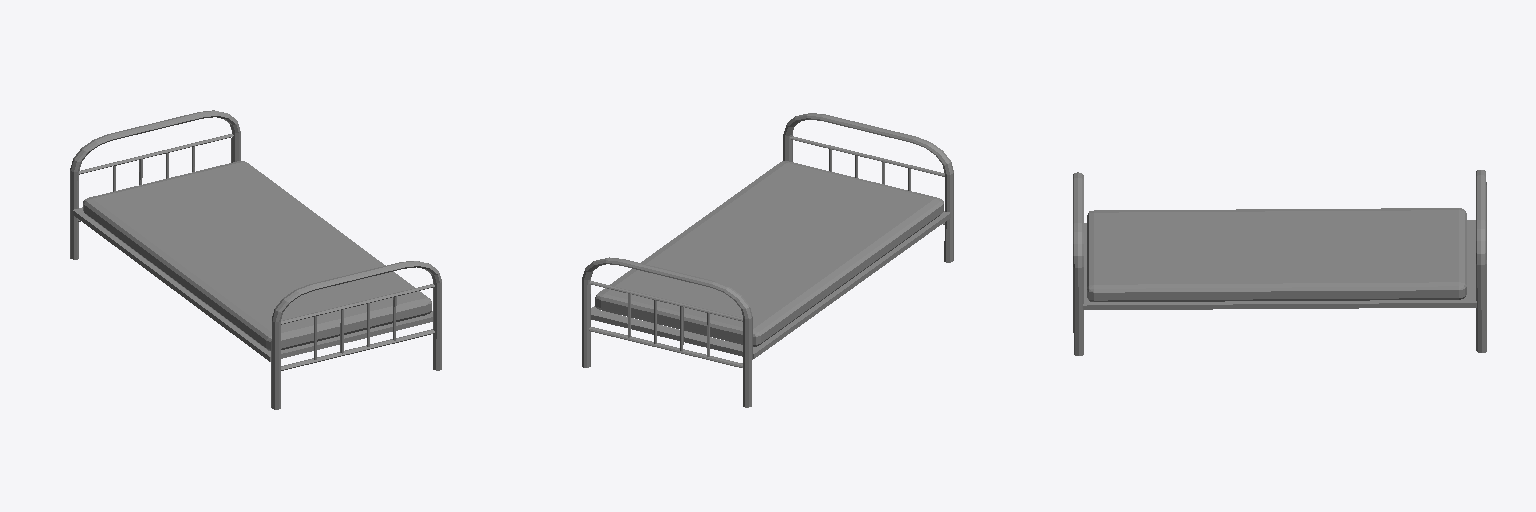
File: cama.obj
3 renders of one model, left to right at view 1: azimuth 30°, elevation 25°; view 2: azimuth 150°, elevation 25°; view 3: azimuth 270°, elevation 25°, orthographic.
Visible parts, largest first — view 1: Low; view 2: Low; view 3: Low.
Boxes of the visible parts, x1=… form: Low: x1=70, y1=110, x2=441, y2=409; Low: x1=582, y1=113, x2=953, y2=407; Low: x1=1073, y1=170, x2=1486, y2=355.
Bounding box in the file's own units: 34.39 × 22.82 × 72.89.